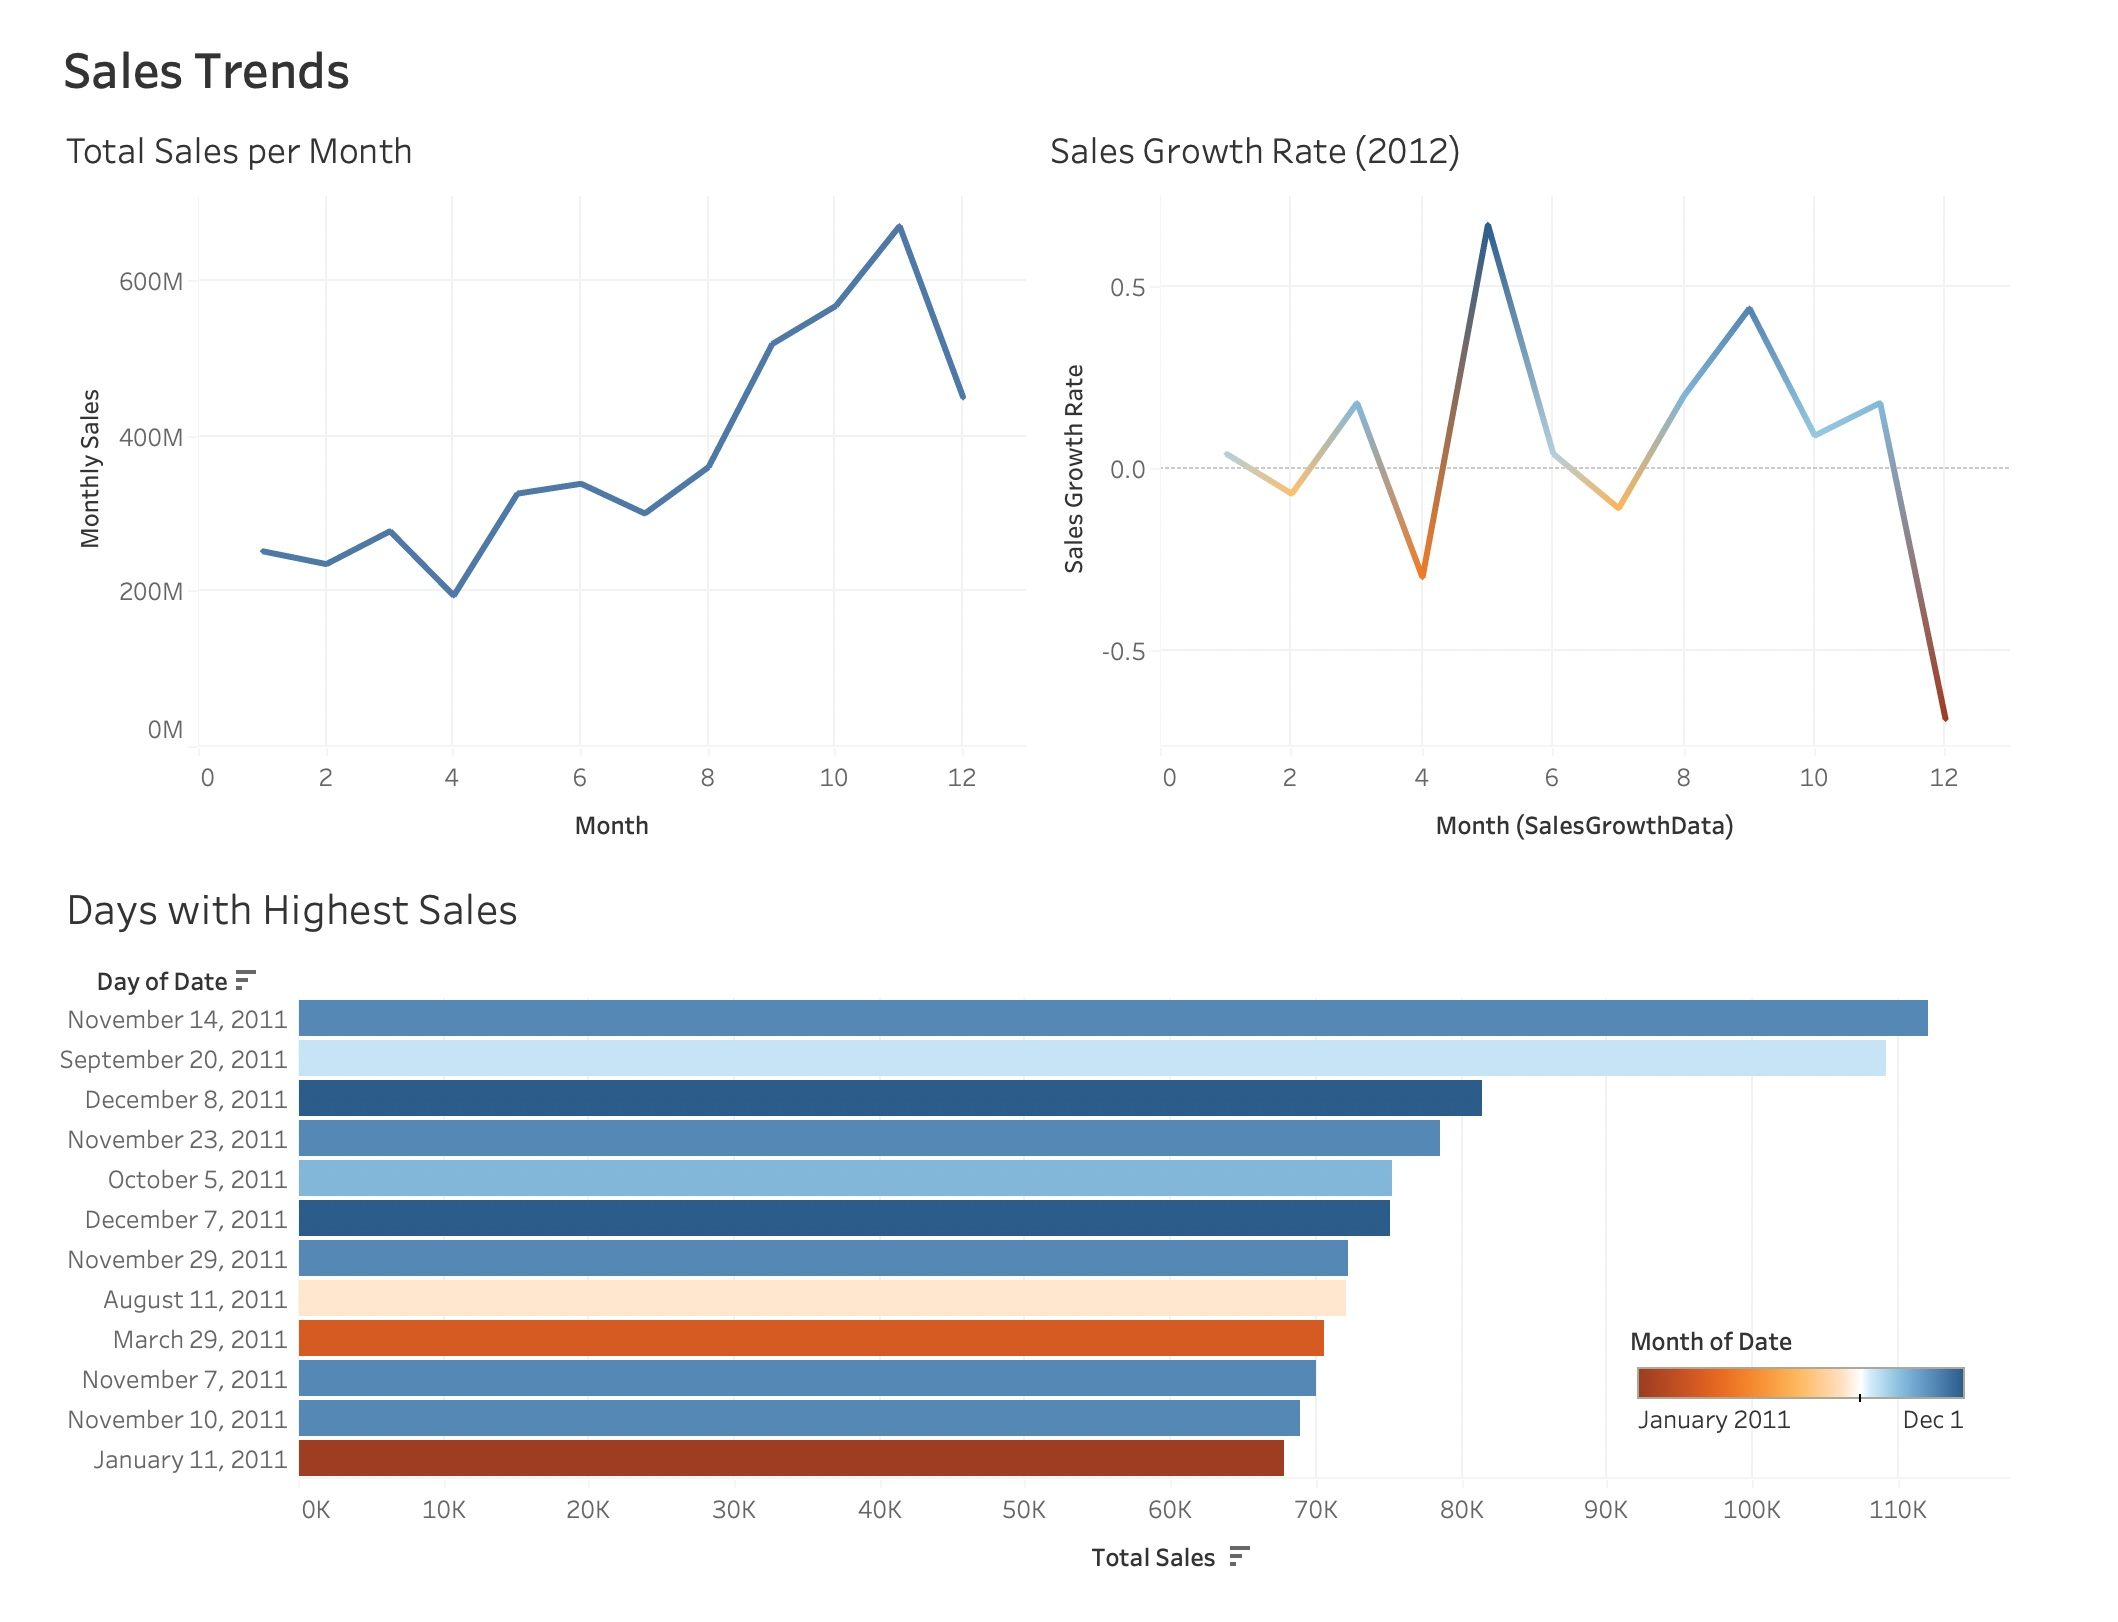

What the dashboard file says about the page in this screenshot:
{"tool":"tableau","page":{"name":"Dashboard 3","canvas":[1000,800],"ordinal":2},"visuals":[{"type":"title","box":[8,8,984,41]},{"type":"worksheet","title":"Sheet 7","mark":"Automatic","rows":["MonthlySales"],"cols":["Month"],"box":[8,49,492,392.3]},{"type":"worksheet","title":"Sheet 10","mark":"Automatic","rows":["SalesGrowthRate"],"cols":["Month (SalesGrowthData)"],"box":[500,49,492,392.3]},{"type":"worksheet","title":"Sheet 13","mark":"Bar","rows":["Date"],"cols":["TotalSales"],"box":[8,441.3,984,350.7]},{"type":"legend","title":"Sheet 13","param":"[federated.0i5ynd00bf3w5w1aq6y280vr25mc].[tmn:Date:qk]","box":[798,656,172,76]}]}

Visuals, with their boxes on the page's 1000x800 design canvas (x1, y1, x2, y2). These are canvas units, not pixel positions in the 2118x1622 screenshot, which may show the page scaled, cropped or inside an application window:
title: region(8, 8, 992, 49)
"Sheet 7" worksheet: region(8, 49, 500, 441)
"Sheet 10" worksheet: region(500, 49, 992, 441)
"Sheet 13" worksheet (Bar marks): region(8, 441, 992, 792)
"Sheet 13" legend: region(798, 656, 970, 732)
